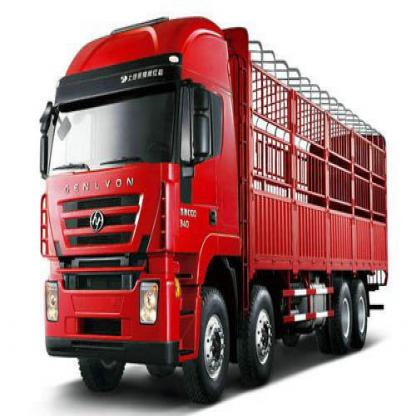lorry: (39, 13, 390, 400)
